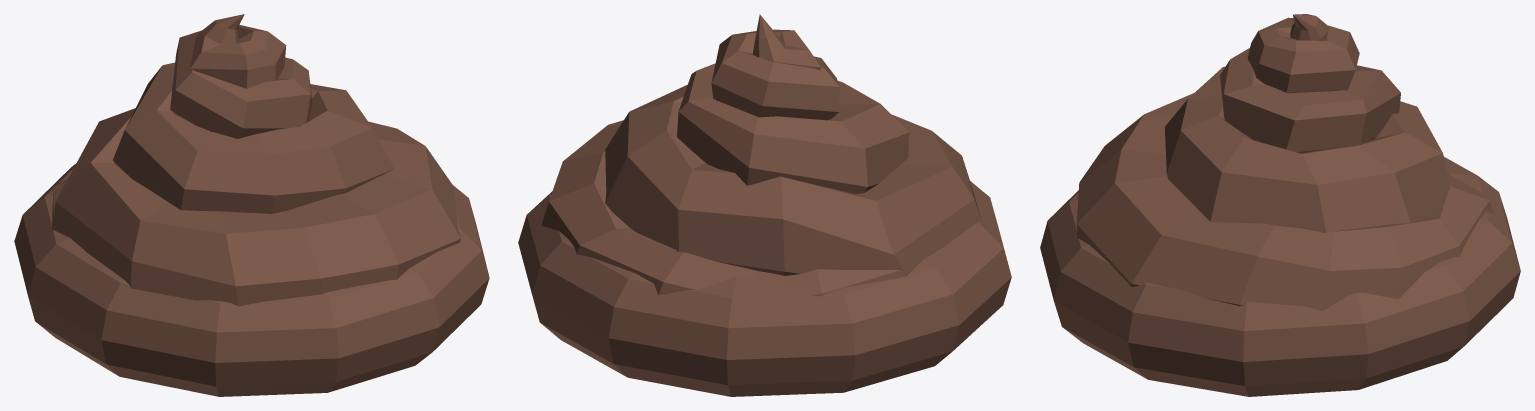
Rendered from scene_R6DzVmTltf.glb.
3 views of the same model, side by side, from view 1: azimuth 30°, elevation 25°; view 2: azimuth 150°, elevation 25°; view 3: azimuth 270°, elevation 25° (orthographic). The views are drawn at different scales.
Visible parts, largest first — view 1: group1888406042; view 2: group1888406042; view 3: group1888406042.
Boxes of the visible parts, x1,y1,x2,y2 form: group1888406042: (14,14,489,396); group1888406042: (518,14,1011,396); group1888406042: (1040,14,1520,396).
Size of the model in its own units: 0.26 by 0.1861 by 0.26.
